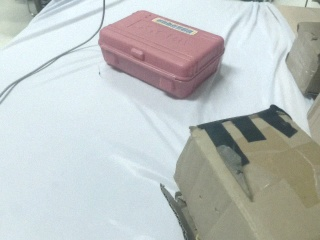box: (168, 106, 320, 240), (97, 5, 228, 101)
